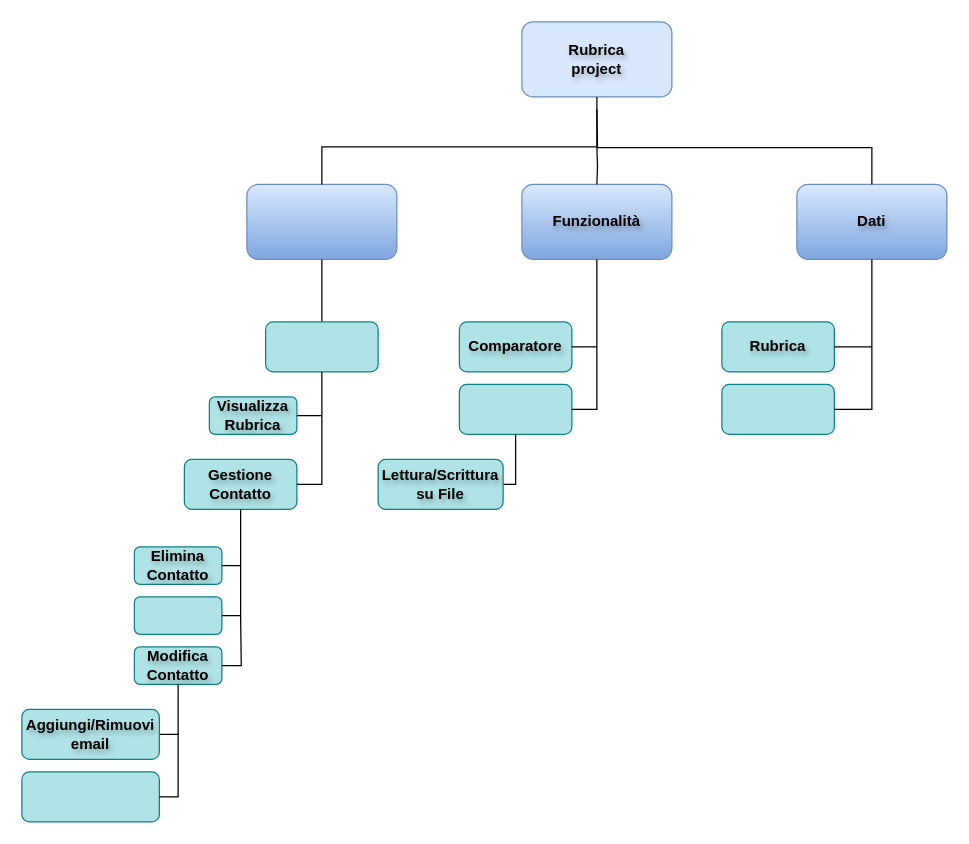
Some shapes in this 969 by 844 pixel diagram are drawn without their labels. Each missing label, with the centre of its shape:
"Aggiungi Contatto" belongs at (177,615).
"Aggiungi/Rimuovi numero" belongs at (90,796).
"Contatto" belongs at (777,408).
"Gestione Rubrica" belongs at (321,346).
"Gestore File" belongs at (515,408).
"Interfaccia utente" belongs at (321,221).
